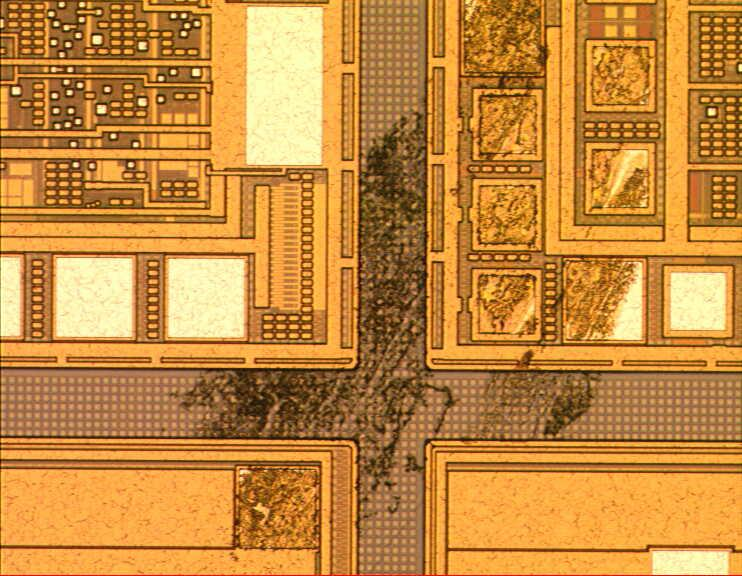SCRATCH: (156, 1, 655, 567)
